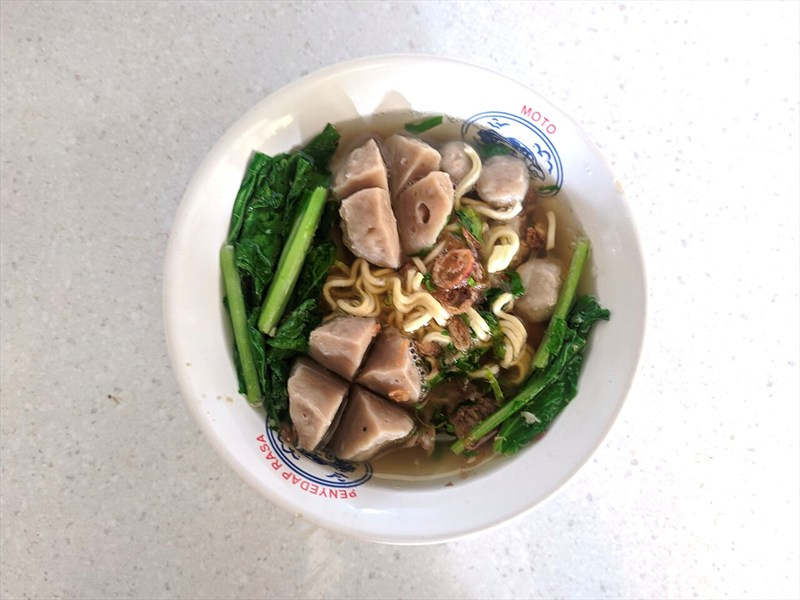Bakso: (212, 124, 598, 476)
